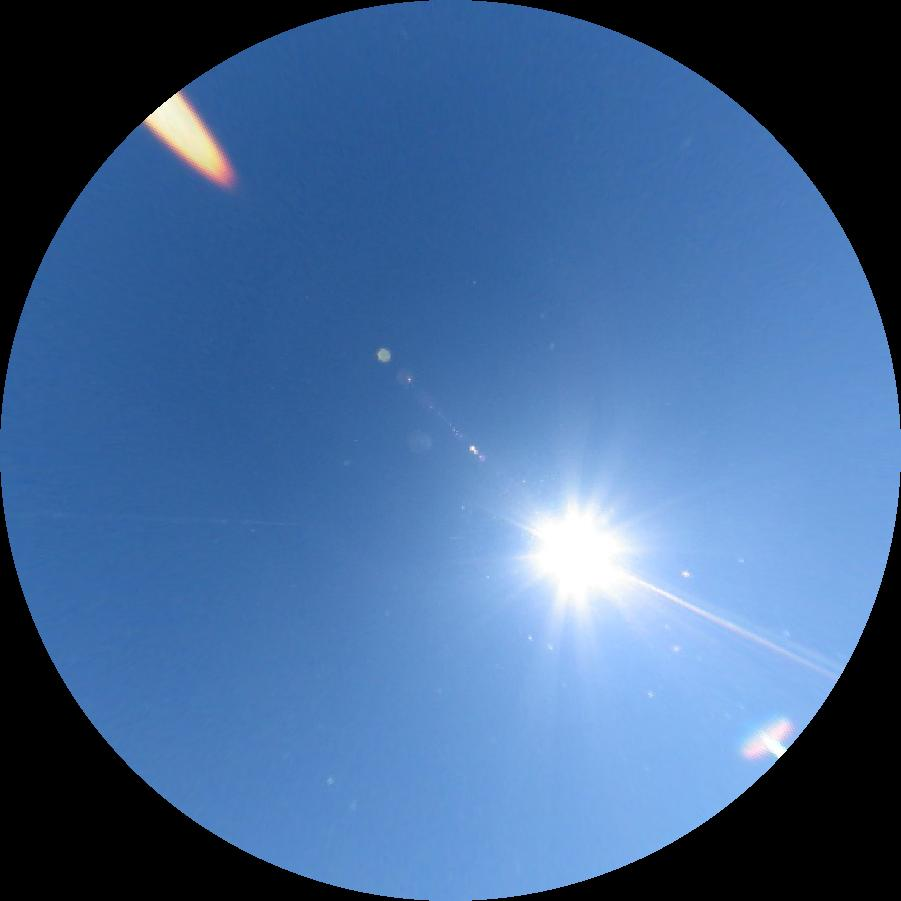parasite: (622, 572, 834, 676), (28, 511, 295, 524)
sun: (530, 504, 626, 602)
